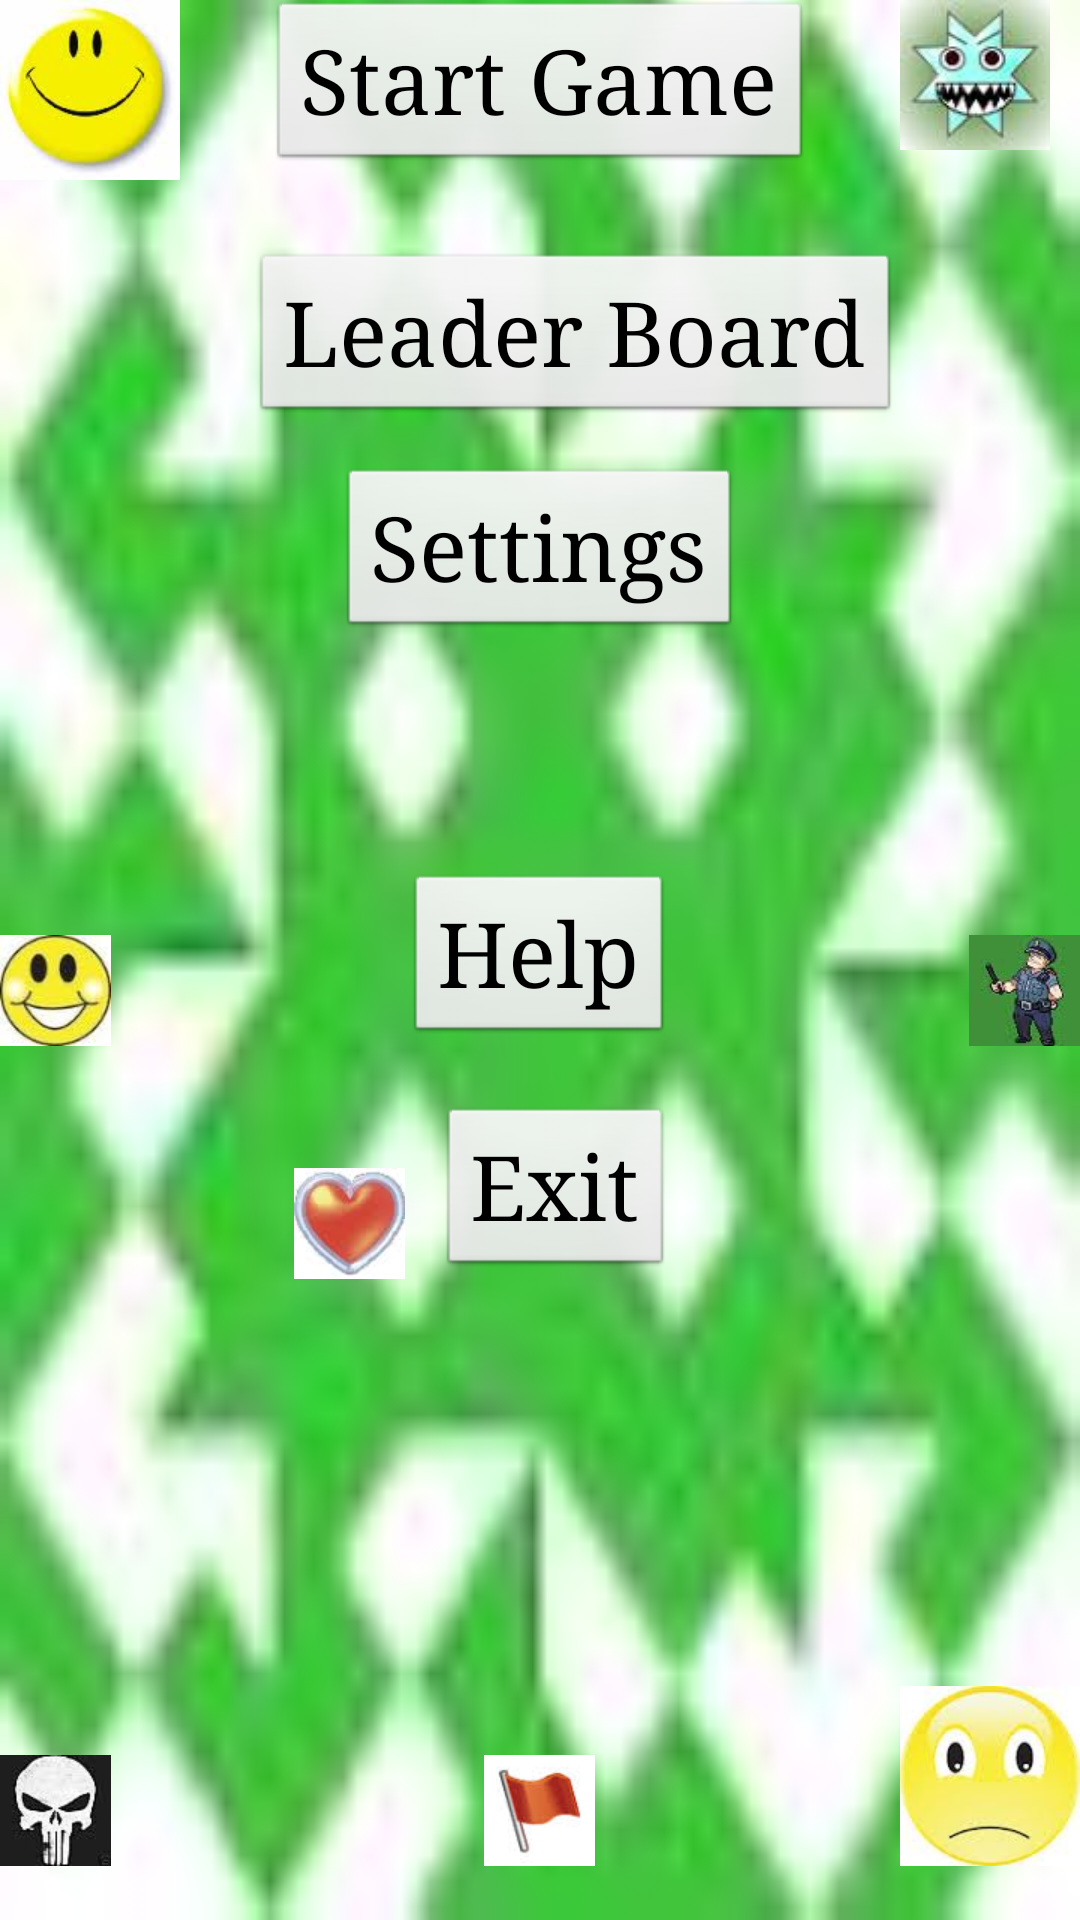

Icons on this 1080*1920 Android screen, each with the point to tap as point (x, y):
flag: point (539, 1810)
heart: point (349, 1223)
life sucker mine: point (975, 75)
sad: point (990, 1776)
smile: point (55, 990)
